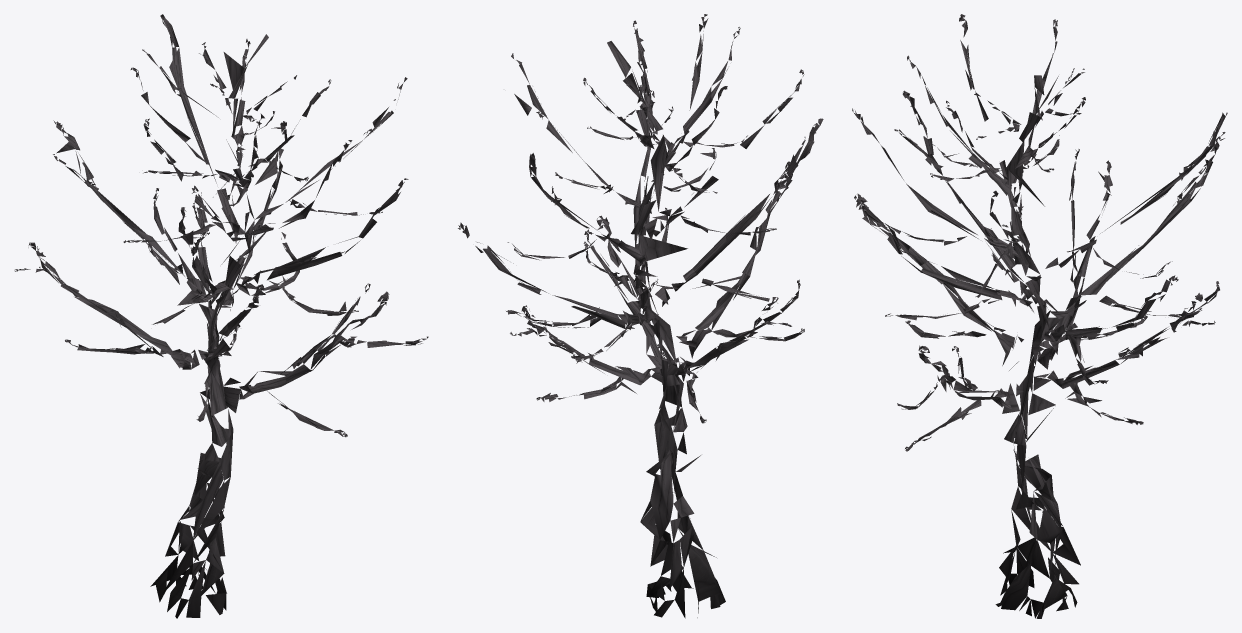
File: DeadTree_1_lod1.glb
The picture shows the model from 3 angles, left to right: view 1: azimuth 30°, elevation 25°; view 2: azimuth 150°, elevation 25°; view 3: azimuth 270°, elevation 25°; orthographic projection. The views are drawn at different scales.
Visible parts, largest first — view 1: DeadTree_1; view 2: DeadTree_1; view 3: DeadTree_1.
Boxes of the visible parts, x1,y1,x2,y2 form: DeadTree_1: [14, 14, 428, 618]; DeadTree_1: [458, 14, 823, 618]; DeadTree_1: [852, 14, 1227, 618].
Bounding box in the file's own units: 6.11 × 9.53 × 5.73.
1 material, 1 textured.
